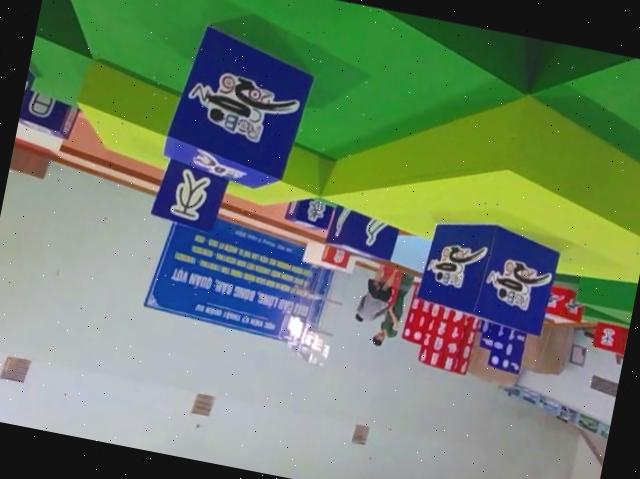R1 Blue: (155, 18, 316, 196), (415, 209, 563, 335)
R2 Fake Blue: (148, 155, 230, 234), (15, 91, 82, 143), (284, 190, 337, 230)
R2 Real Blue: (319, 202, 399, 263)
